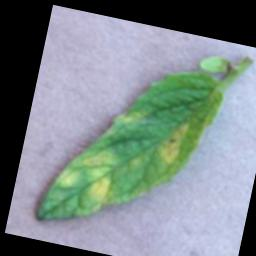Leaf_Mold: (51, 139, 127, 215), (153, 112, 194, 172)
